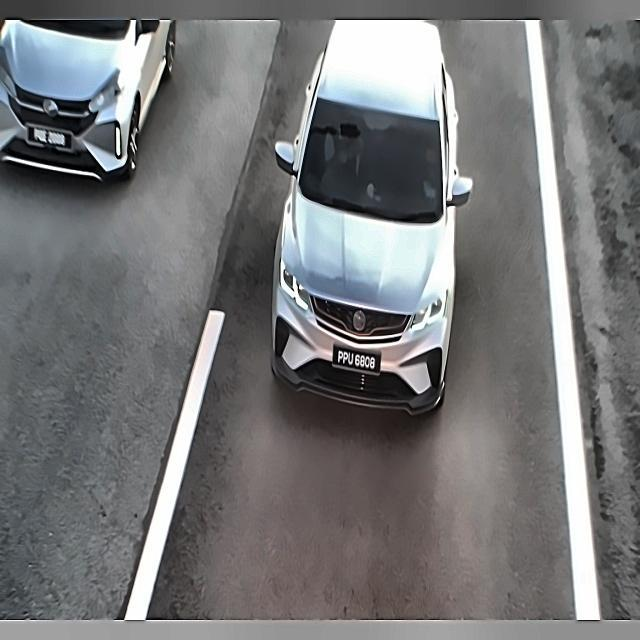car: (328, 337, 381, 378), (24, 124, 74, 156)
